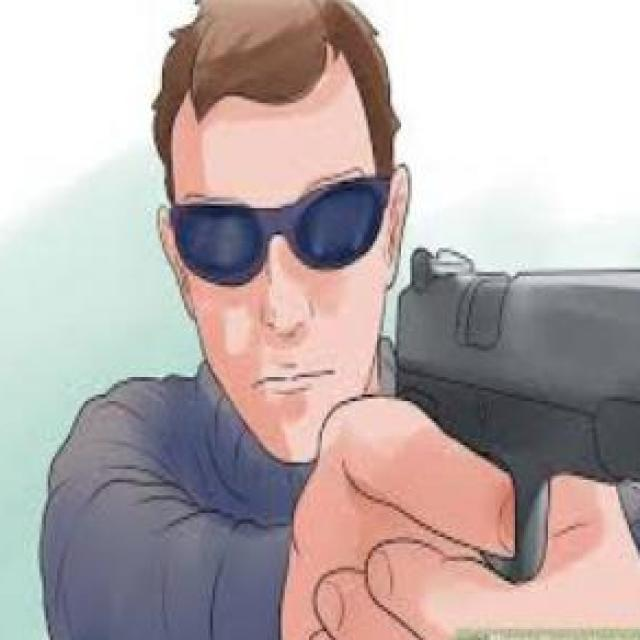pistol: (390, 239, 640, 594)
